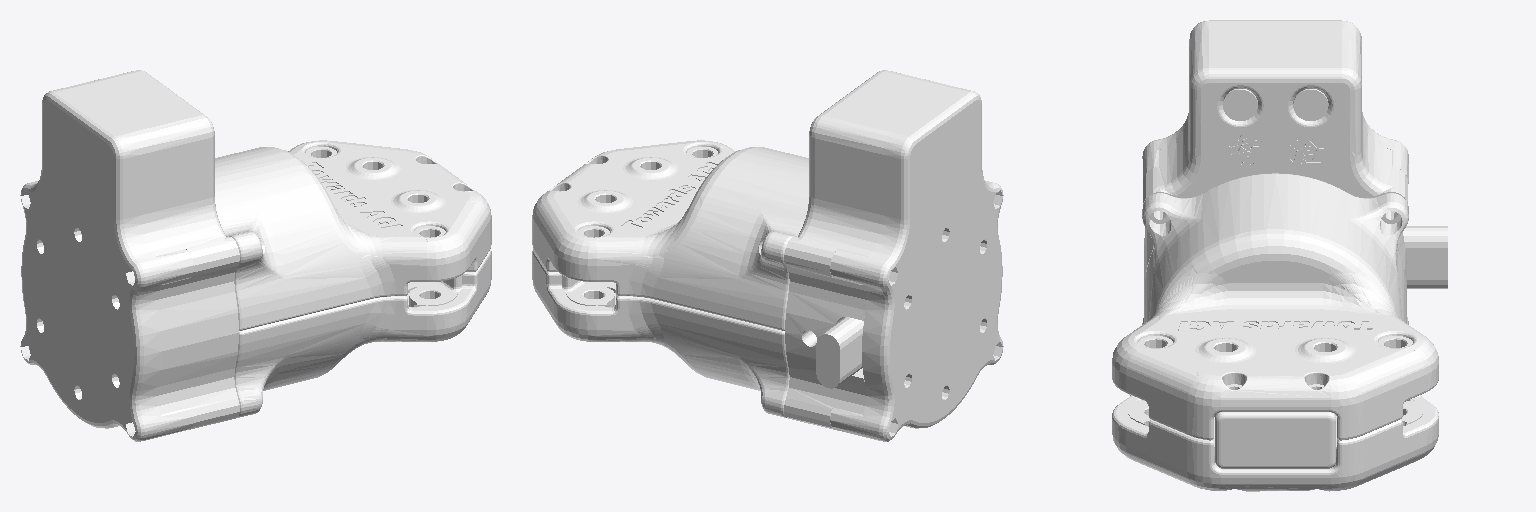
robot.urdf — rm_65_b:
<?xml version="1.0" encoding="utf-8"?>
<robot
  name="rm_65_b">
  <link
    name="base_link">
    <inertial>
      <origin
        xyz="-0.000433277303987328 -3.54664423471128E-05 0.0599427668933796"
        rpy="0 0 0" />
      <mass
        value="0.841070778135659" />
      <inertia
        ixx="0.0017261110801622"
        ixy="2.52746264980217E-06"
        ixz="-3.67690303614961E-05"
        iyy="0.00170987405835604"
        iyz="1.67996364994424E-06"
        izz="0.000904023422915791" />
    </inertial>
    <visual>
      <origin
        xyz="0 0 0"
        rpy="0 0 0" />
      <geometry>
        <mesh
          filename="package://rm_65_b_description/meshes/base_link.STL" />
      </geometry>
      <material
        name="">
        <color
          rgba="1 1 1 1" />
      </material>
    </visual>
    <collision>
      <origin
        xyz="0 0 0"
        rpy="0 0 0" />
      <geometry>
        <mesh
          filename="package://rm_65_b_description/meshes/base_link.STL" />
      </geometry>
    </collision>
  </link>
  <link
    name="Link1">
    <inertial>
      <origin
        xyz="1.2226305431569E-08 0.0211079974844683 -0.0251854220842269"
        rpy="0 0 0" />
      <mass
        value="0.593563443690403" />
      <inertia
        ixx="0.00126614120341847"
        ixy="-1.294980943835E-08"
        ixz="-9.80120923066996E-09"
        iyy="0.00118168178300364"
        iyz="-0.00021121727444415"
        izz="0.00056135241627747" />
    </inertial>
    <visual>
      <origin
        xyz="0 0 0"
        rpy="0 0 0" />
      <geometry>
        <mesh
          filename="package://rm_65_b_description/meshes/link1.STL" />
      </geometry>
      <material
        name="">
        <color
          rgba="1 1 1 1" />
      </material>
    </visual>
    <collision>
      <origin
        xyz="0 0 0"
        rpy="0 0 0" />
      <geometry>
        <mesh
          filename="package://rm_65_b_description/meshes/link1.STL" />
      </geometry>
    </collision>
  </link>
  <joint
    name="joint1"
    type="revolute">
    <origin
      xyz="0 0 0.2405"
      rpy="0 0 0" />
    <parent
      link="base_link" />
    <child
      link="Link1" />
    <axis
      xyz="0 0 1" />
    <limit
      lower="-3.1"
      upper="3.1"
      effort="60"
      velocity="3.14" />
  </joint>
  <link
    name="Link2">
    <inertial>
      <origin
        xyz="0.152256463426163 4.75383656106654E-07 -0.00620260383607792"
        rpy="0 0 0" />
      <mass
        value="0.864175046869043" />
      <inertia
        ixx="0.00089150298478414"
        ixy="-2.23268489334765E-08"
        ixz="0.00156246461035015"
        iyy="0.00733754343083901"
        iyz="6.28110889329165E-09"
        izz="0.00697869103915473" />
    </inertial>
    <visual>
      <origin
        xyz="0 0 0"
        rpy="0 0 0" />
      <geometry>
        <mesh
          filename="package://rm_65_b_description/meshes/link2.STL" />
      </geometry>
      <material
        name="">
        <color
          rgba="1 1 1 1" />
      </material>
    </visual>
    <collision>
      <origin
        xyz="0 0 0"
        rpy="0 0 0" />
      <geometry>
        <mesh
          filename="package://rm_65_b_description/meshes/link2.STL" />
      </geometry>
    </collision>
  </link>
  <joint
    name="joint2"
    type="revolute">
    <origin
      xyz="0 0 0"
      rpy="1.5708 -1.5708 0" />
    <parent
      link="Link1" />
    <child
      link="Link2" />
    <axis
      xyz="0 0 1" />
    <limit
      lower="-2.268"
      upper="2.268"
      effort="60"
      velocity="3.14" />
  </joint>
  <link
    name="Link3">
    <inertial>
      <origin
        xyz="5.05312670989961E-06 -0.0595925663694732 0.010569069212336"
        rpy="0 0 0" />
      <mass
        value="0.289633681624654" />
      <inertia
        ixx="0.00063737100450158"
        ixy="-7.05261293649751E-08"
        ixz="-3.86643272239426E-08"
        iyy="0.00015648388095025"
        iyz="-0.00014461035994916"
        izz="0.000614178164773085" />
    </inertial>
    <visual>
      <origin
        xyz="0 0 0"
        rpy="0 0 0" />
      <geometry>
        <mesh
          filename="package://rm_65_b_description/meshes/link3.STL" />
      </geometry>
      <material
        name="">
        <color
          rgba="1 1 1 1" />
      </material>
    </visual>
    <collision>
      <origin
        xyz="0 0 0"
        rpy="0 0 0" />
      <geometry>
        <mesh
          filename="package://rm_65_b_description/meshes/link3.STL" />
      </geometry>
    </collision>
  </link>
  <joint
    name="joint3"
    type="revolute">
    <origin
      xyz="0.256 0 0"
      rpy="0 0 1.5708" />
    <parent
      link="Link2" />
    <child
      link="Link3" />
    <axis
      xyz="0 0 1" />
    <limit
      lower="-2.355"
      upper="2.355"
      effort="30"
      velocity="3.92" />
  </joint>
  <link
    name="Link4">
    <inertial>
      <origin
        xyz="1.15516617405898E-06 -0.0180424468598241 -0.0215394748352687"
        rpy="0 0 0" />
      <mass
        value="0.239419768320061" />
      <inertia
        ixx="0.000285938919722783"
        ixy="3.07101359163101E-09"
        ixz="-2.21994118981953E-09"
        iyy="0.000262727540304212"
        iyz="4.4236583260078E-05"
        izz="0.000119888082791859" />
    </inertial>
    <visual>
      <origin
        xyz="0 0 0"
        rpy="0 0 0" />
      <geometry>
        <mesh
          filename="package://rm_65_b_description/meshes/link4.STL" />
      </geometry>
      <material
        name="">
        <color
          rgba="1 1 1 1" />
      </material>
    </visual>
    <collision>
      <origin
        xyz="0 0 0"
        rpy="0 0 0" />
      <geometry>
        <mesh
          filename="package://rm_65_b_description/meshes/link4.STL" />
      </geometry>
    </collision>
  </link>
  <joint
    name="joint4"
    type="revolute">
    <origin
      xyz="0 -0.21 0"
      rpy="1.5708 0 0" />
    <parent
      link="Link3" />
    <child
      link="Link4" />
    <axis
      xyz="0 0 1" />
    <limit
      lower="-3.1"
      upper="3.1"
      effort="10"
      velocity="3.92" />
  </joint>
  <link
    name="Link5">
    <inertial>
      <origin
        xyz="3.19794786262152E-06 -0.0593808368101458 0.00736804250989326"
        rpy="0 0 0" />
      <mass
        value="0.218799761431678" />
      <inertia
        ixx="0.000350540363914072"
        ixy="-3.41781619975602E-08"
        ixz="-1.77056457224373E-08"
        iyy="0.000104927867487581"
        iyz="-7.82431228461971E-05"
        izz="0.000334482418423629" />
    </inertial>
    <visual>
      <origin
        xyz="0 0 0"
        rpy="0 0 0" />
      <geometry>
        <mesh
          filename="package://rm_65_b_description/meshes/link5.STL" />
      </geometry>
      <material
        name="">
        <color
          rgba="1 1 1 1" />
      </material>
    </visual>
    <collision>
      <origin
        xyz="0 0 0"
        rpy="0 0 0" />
      <geometry>
        <mesh
          filename="package://rm_65_b_description/meshes/link5.STL" />
      </geometry>
    </collision>
  </link>
  <joint
    name="joint5"
    type="revolute">
    <origin
      xyz="0 0 0"
      rpy="-1.5708 0 0" />
    <parent
      link="Link4" />
    <child
      link="Link5" />
    <axis
      xyz="0 0 1" />
    <limit
      lower="-2.233"
      upper="2.233"
      effort="10"
      velocity="3.92" />
  </joint>
  <link
    name="Link6">
    <inertial>
      <origin
        xyz="0.000714234511756999 -0.000396718732824521 -0.0126723660946126"
        rpy="0 0 0" />
      <mass
        value="0.0649018034311231" />
      <inertia
        ixx="2.02766547502765E-05"
        ixy="-1.32505200276849E-06"
        ixz="-2.5845091522508E-08"
        iyy="1.87986725225022E-05"
        iyz="3.39471452125439E-09"
        izz="3.17885459163081E-05" />
    </inertial>
    <visual>
      <origin
        xyz="0 0 0"
        rpy="0 0 0" />
      <geometry>
        <mesh
          filename="package://rm_65_b_description/meshes/link6.STL" />
      </geometry>
      <material
        name="">
        <color
          rgba="1 1 1 1" />
      </material>
    </visual>
    <collision>
      <origin
        xyz="0 0 0"
        rpy="0 0 0" />
      <geometry>
        <mesh
          filename="package://rm_65_b_description/meshes/link6.STL" />
      </geometry>
    </collision>
  </link>
  <joint
    name="joint6"
    type="revolute">
    <origin
      xyz="0 -0.144 0"
      rpy="1.5708 0 0" />
    <parent
      link="Link5" />
    <child
      link="Link6" />
    <axis
      xyz="0 0 1" />
    <limit
      lower="-6.28"
      upper="6.28"
      effort="10"
      velocity="3.92" />
  </joint>
</robot>

--- What the picture shows (computed from the rendered views, not written in the file) ---
The picture shows the robot from 3 angles, left to right: view 1: azimuth 30°, elevation 25°; view 2: azimuth 150°, elevation 25°; view 3: azimuth 270°, elevation 25°; orthographic projection.
Model rm_65_b with 7 links and 6 joints (6 revolute), rooted at base_link, posed all joints at 0.
Links seen in each view (by area): view 1: base_link; view 2: base_link; view 3: base_link.
Boxes of the visible links, x1,y1,x2,y2 form: base_link: [20, 70, 491, 441]; base_link: [532, 70, 1003, 441]; base_link: [1112, 20, 1447, 491].
Bounding box of the posed robot: 0.1245 × 0.0858 × 0.095 m (x, y, z).
Meshes: 7 distinct files referenced, 1 mesh visuals loaded (1 binary STL); not drawn: 6 (reference not matched to a file when rendering).